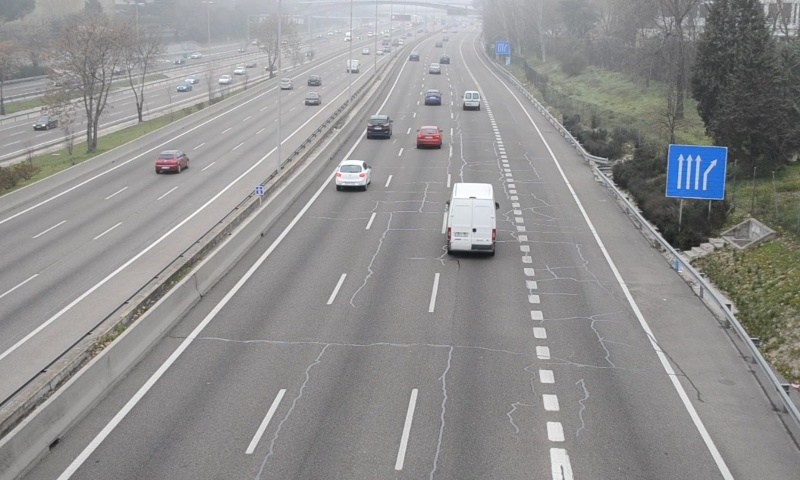car: (334, 161, 369, 188), (366, 114, 392, 140), (416, 125, 442, 150), (424, 88, 442, 106)
van: (446, 183, 498, 256), (462, 90, 482, 112)
